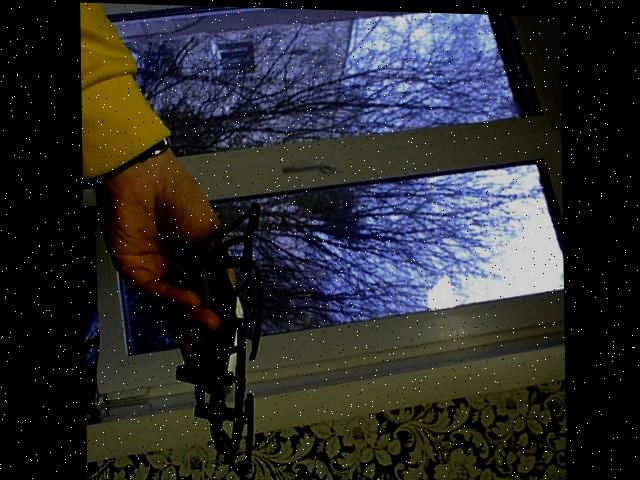drone: (158, 198, 290, 480)
